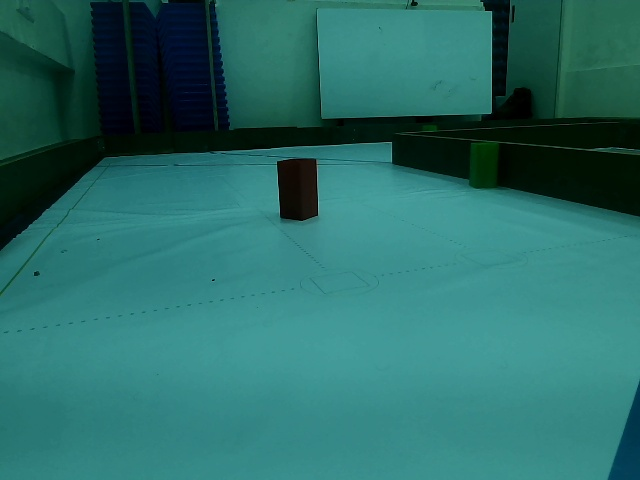red: (281, 161, 319, 218)
